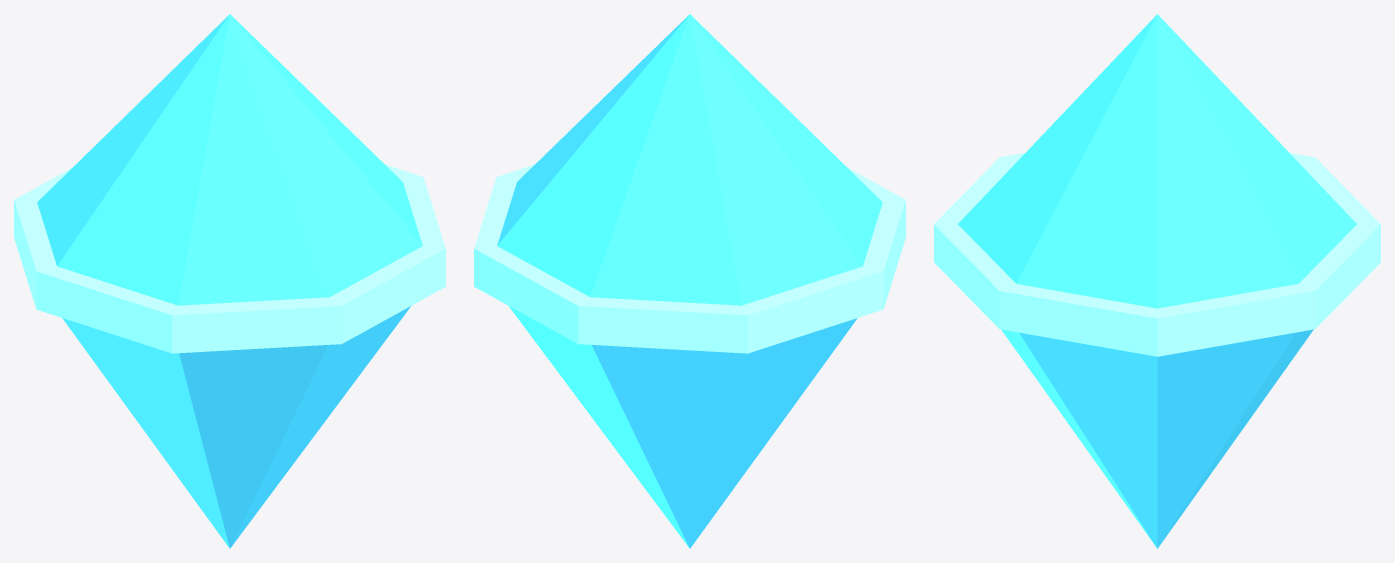
File: GemModel.glb
3 views of the same model, side by side, from view 1: azimuth 30°, elevation 25°; view 2: azimuth 150°, elevation 25°; view 3: azimuth 270°, elevation 25° (orthographic).
Visible parts, largest first — view 1: GemModel; view 2: GemModel; view 3: GemModel.
Boxes of the visible parts, left/top/right/bottom form: GemModel: left=14, top=14, right=445, bottom=548; GemModel: left=474, top=14, right=905, bottom=548; GemModel: left=934, top=14, right=1380, bottom=548.
Size of the model in its own units: 0.636 by 0.84 by 0.636.
